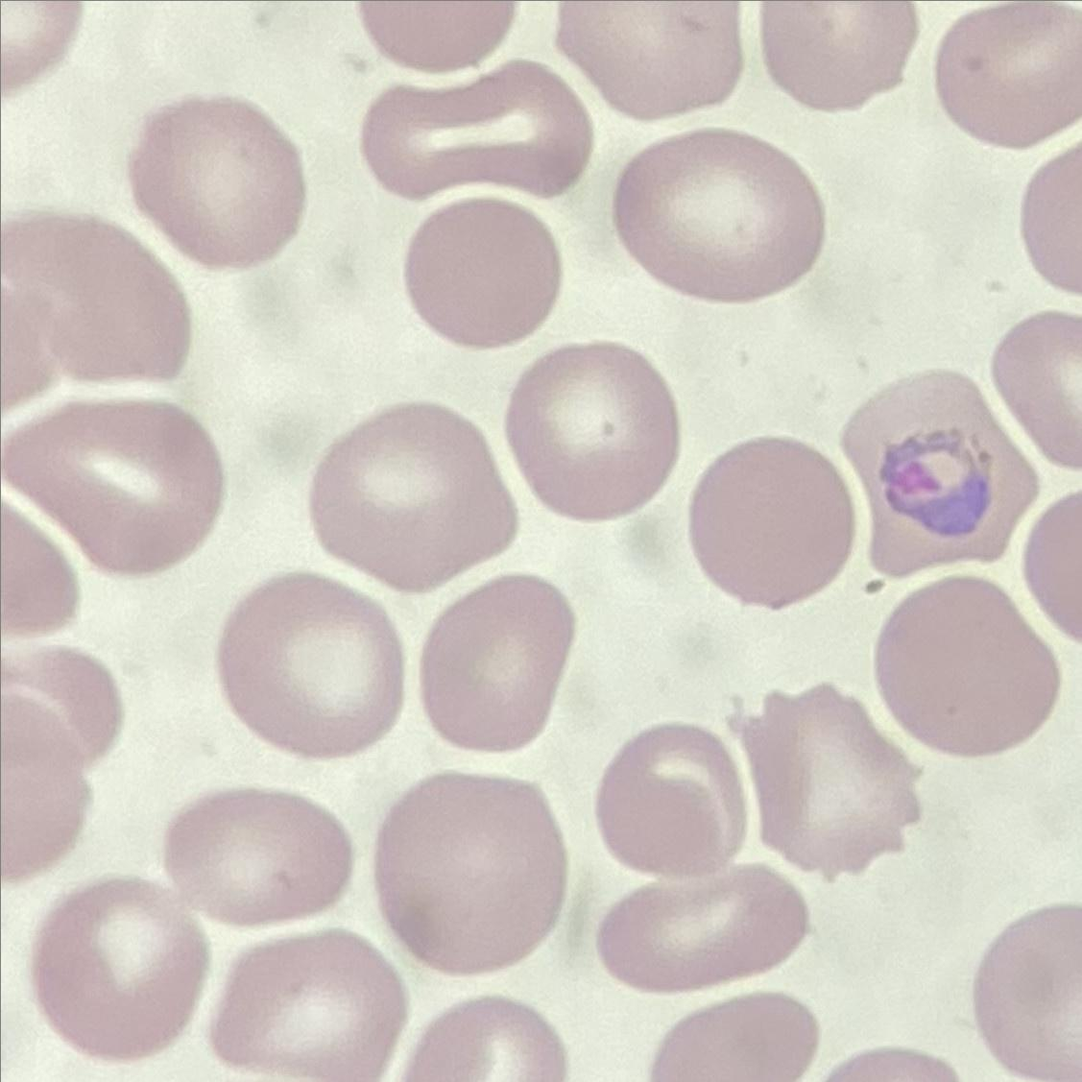Infected: (838, 366, 1036, 576)
Uninfected: (314, 388, 513, 603), (374, 766, 558, 981), (0, 395, 210, 569), (13, 193, 189, 392), (214, 574, 400, 759), (618, 129, 814, 304), (736, 686, 916, 874), (362, 55, 590, 202), (512, 334, 684, 526), (874, 577, 1055, 757), (26, 872, 197, 1060), (128, 87, 304, 264), (691, 436, 852, 614), (214, 929, 396, 1082), (592, 862, 812, 988), (163, 782, 351, 926), (426, 571, 564, 763), (406, 193, 566, 356), (938, 0, 1082, 161), (598, 715, 744, 870), (560, 0, 741, 117), (739, 0, 918, 116)
